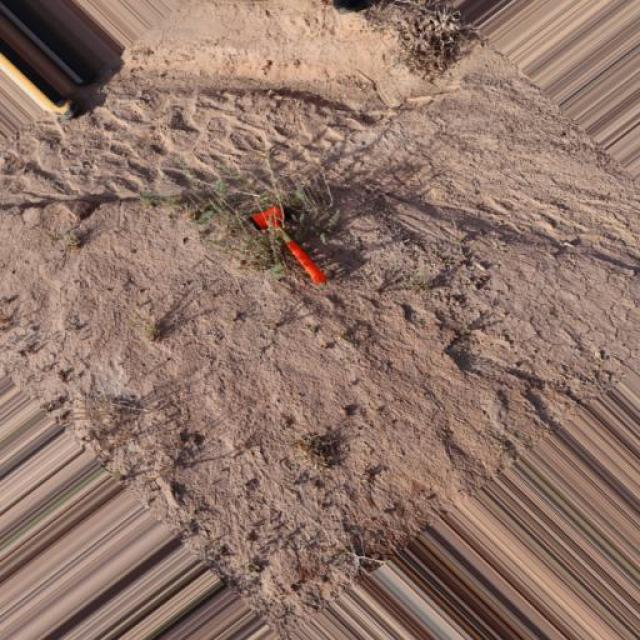mallet: (248, 204, 328, 286)
